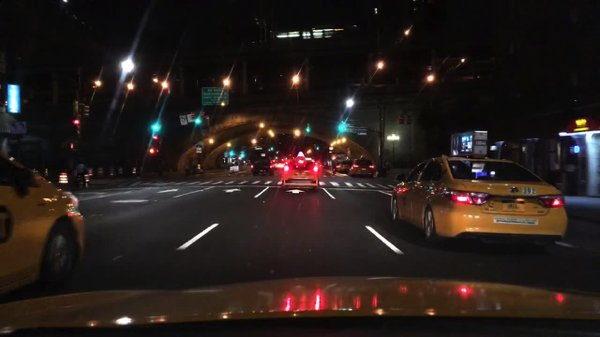car: (390, 155, 568, 254), (0, 150, 87, 303), (280, 151, 319, 191), (348, 155, 374, 178), (250, 154, 274, 176), (333, 160, 352, 174), (278, 162, 285, 169), (272, 159, 277, 167)
person: (76, 161, 88, 189)
traffic light: (80, 102, 90, 118), (73, 118, 81, 133), (152, 122, 160, 133), (149, 147, 157, 156), (398, 114, 404, 125), (195, 116, 201, 126), (338, 124, 345, 132), (305, 125, 311, 134), (406, 116, 412, 125), (153, 134, 159, 142), (70, 142, 75, 151), (190, 111, 195, 119), (229, 152, 234, 157), (271, 147, 276, 152), (240, 152, 244, 158), (201, 111, 205, 117), (316, 146, 320, 151)
traffic sign: (201, 87, 229, 105), (178, 116, 187, 126), (345, 128, 357, 134), (358, 129, 367, 136), (188, 114, 194, 123), (199, 142, 204, 150), (197, 147, 202, 154), (224, 152, 228, 158), (254, 148, 262, 150), (329, 147, 334, 150)
